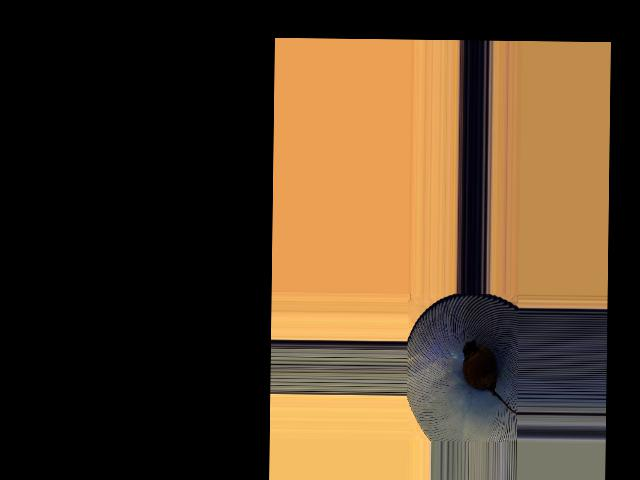beet: (462, 339, 519, 414)
